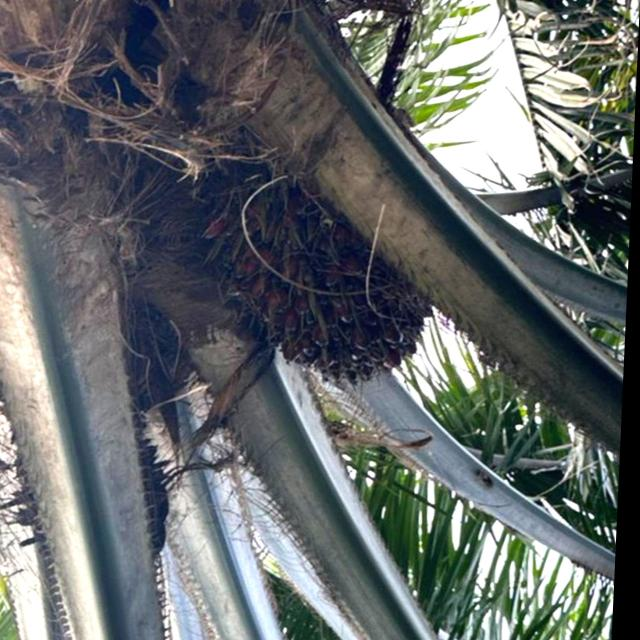ripe: (197, 150, 448, 404)
